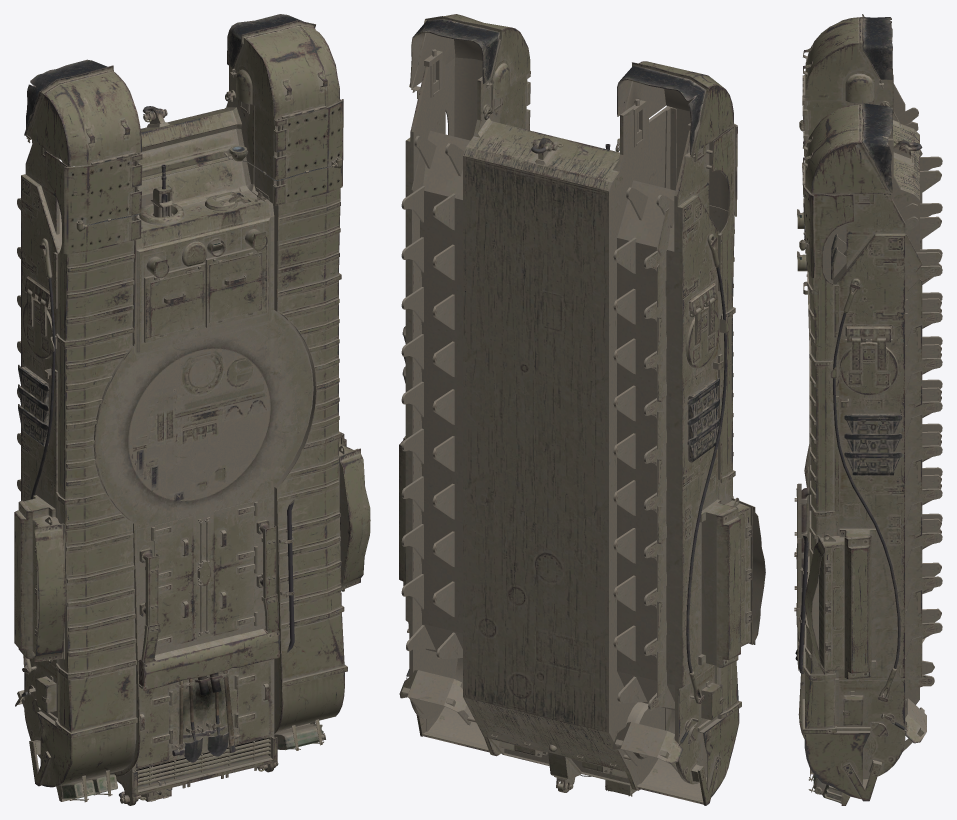
The model's file is Hull.glb.
3 views of the same model, side by side, from view 1: azimuth 30°, elevation 25°; view 2: azimuth 150°, elevation 25°; view 3: azimuth 270°, elevation 25° (orthographic). The views are drawn at different scales.
Visible parts, largest first — view 1: set_0_group_0; view 2: set_0_group_0; view 3: set_0_group_0.
Part boxes in pixels (<box>): set_0_group_0: <box>14,14,370,805</box>; set_0_group_0: <box>399,14,765,805</box>; set_0_group_0: <box>794,14,942,805</box>.
Bounding box in the file's own units: 3.55 × 7.39 × 1.44.
1 material, 1 textured.
